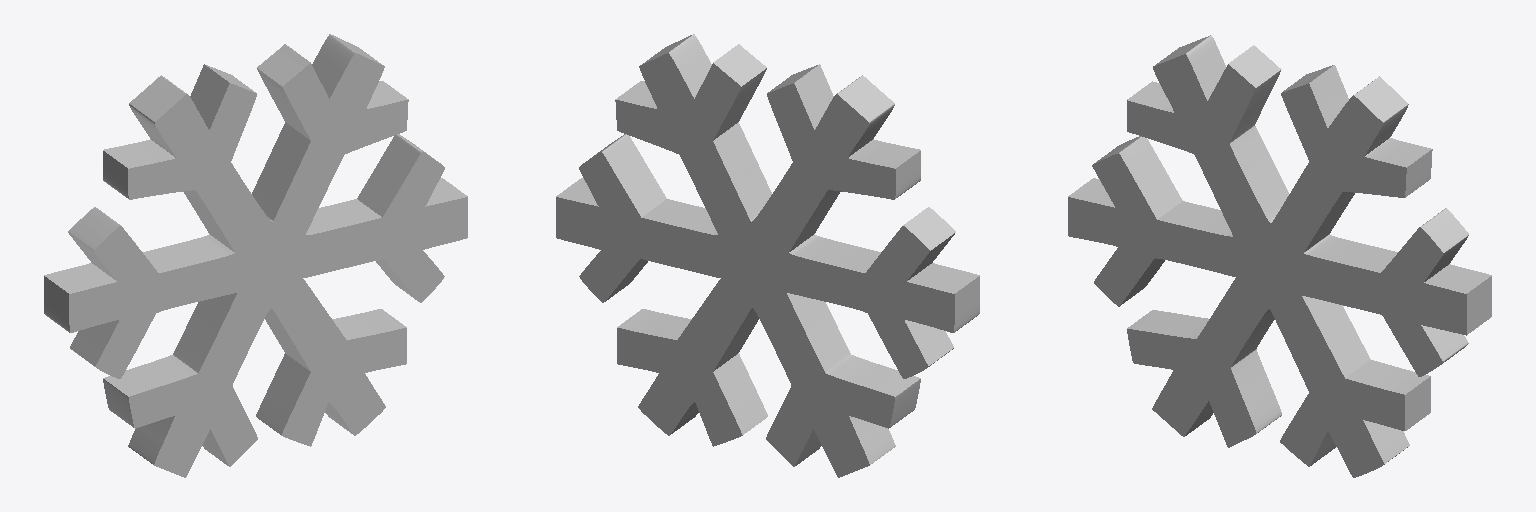
The model's file is snowflake.obj.
The picture shows the model from 3 angles: view 1: azimuth 30°, elevation 25°; view 2: azimuth 150°, elevation 25°; view 3: azimuth 330°, elevation 25°; orthographic projection.
Visible parts, largest first — view 1: Curve_Mesh; view 2: Curve_Mesh; view 3: Curve_Mesh.
Boxes of the visible parts, x1=… form: Curve_Mesh: x1=44, y1=34, x2=467, y2=477; Curve_Mesh: x1=556, y1=34, x2=979, y2=477; Curve_Mesh: x1=1068, y1=35, x2=1491, y2=477.
Bounding box in the file's own units: 1.91 × 1.76 × 0.2138.